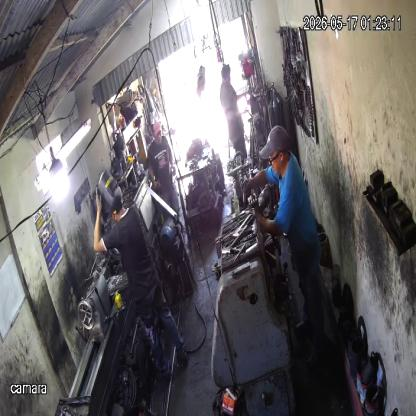lentes: (268, 149, 282, 164)
